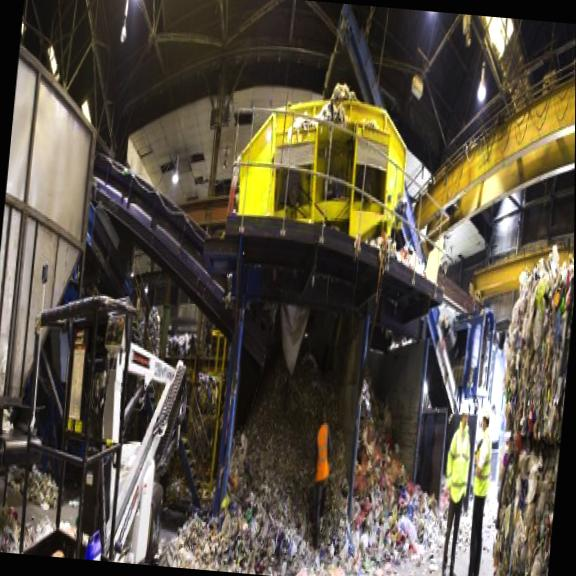safety_vest: (445, 428, 473, 502), (472, 426, 496, 500), (314, 419, 334, 494)
